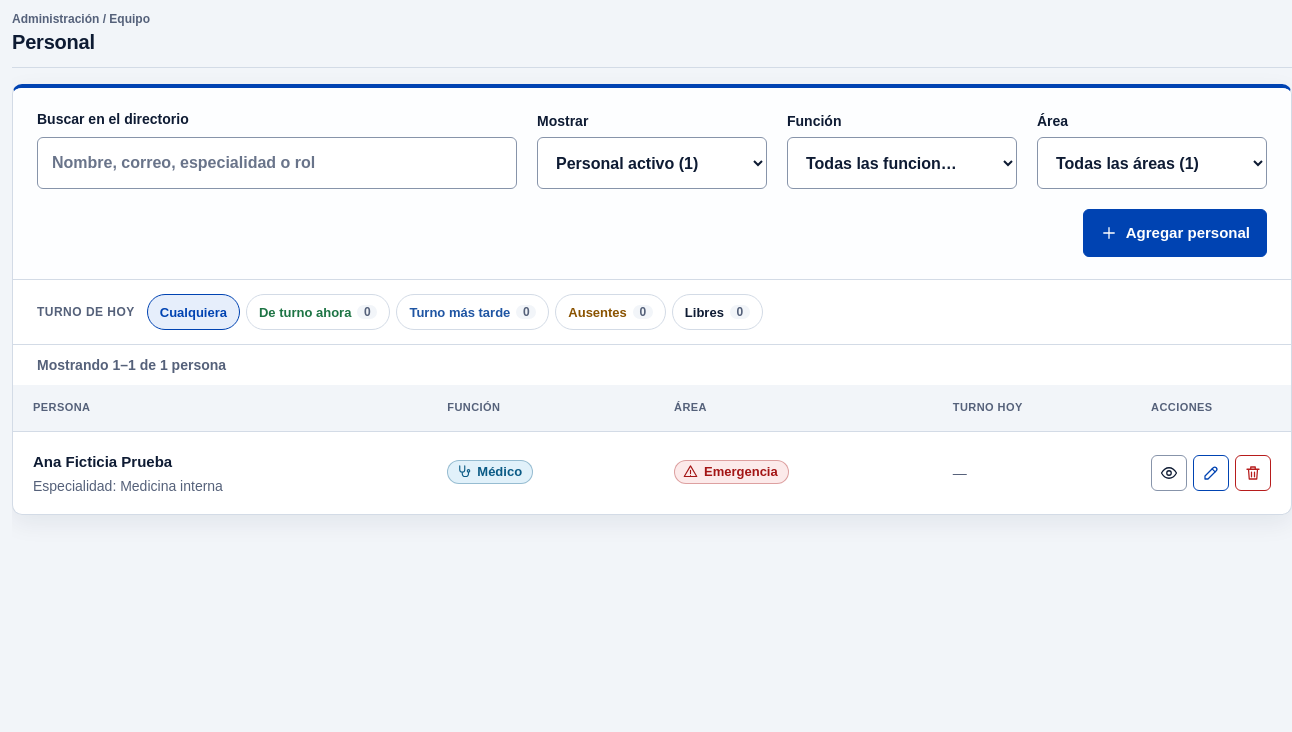
Test case: W07 · personal de salud › lista solo al personal activo y permite ver a las personas inactivas
Expected: the text "Ana Ficticia Prueba" is shown, 33,453 -> 172,470
Expected: the text "Luis Ejemplo Muestra" is not shown
Select "Personal inactivo (1)" in the dropdown labelled "Mostrar" at (652, 163), box 537,137 -> 767,189
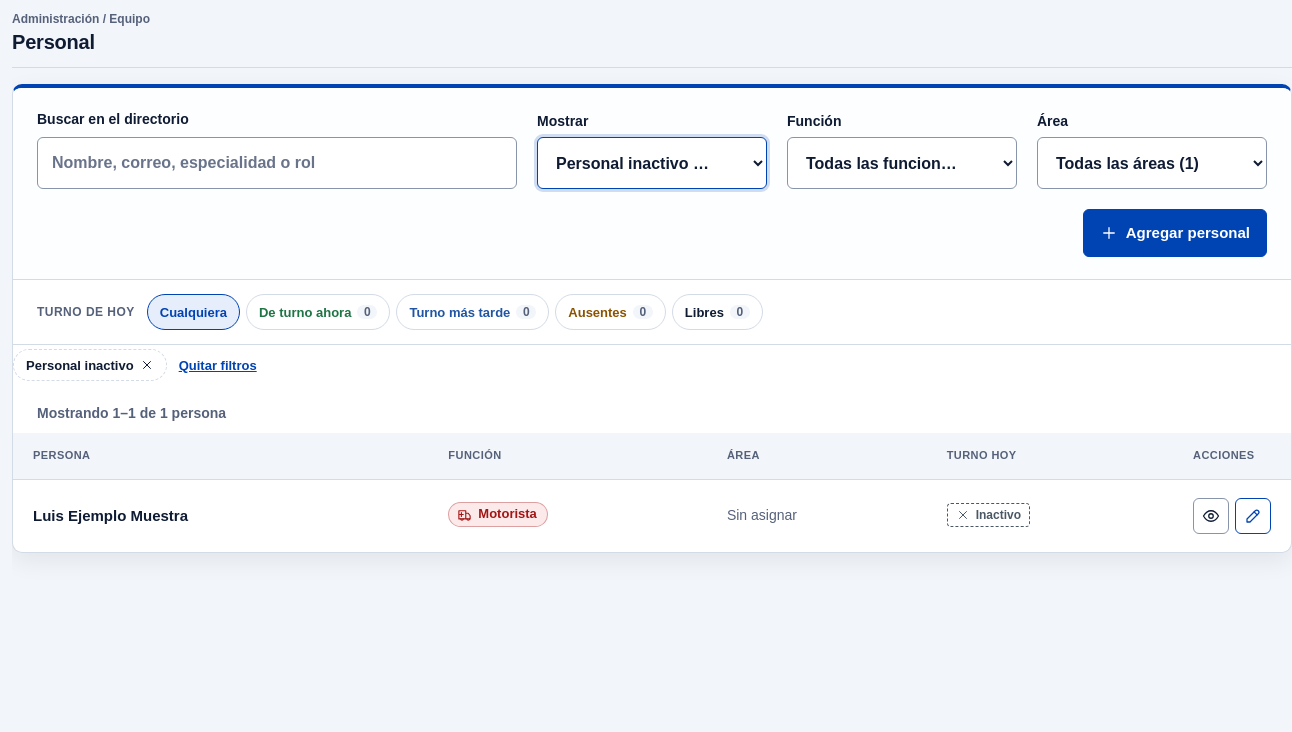
Now the text "Luis Ejemplo Muestra" is shown, box 33,507 -> 188,524
